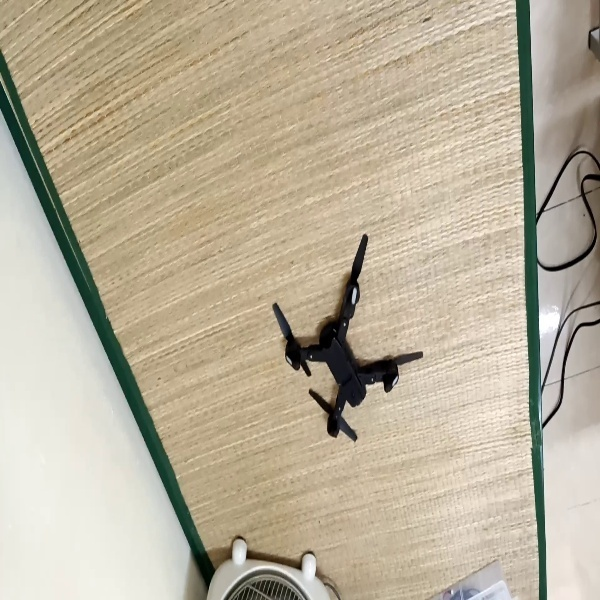drone: (269, 233, 424, 446)
